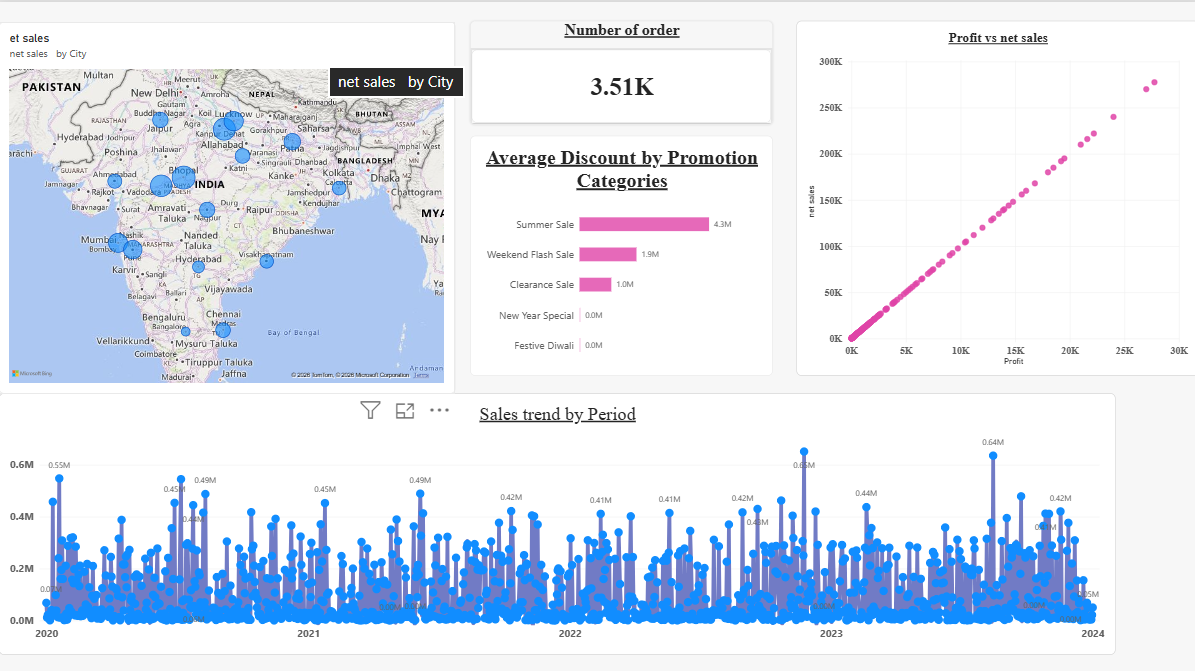

The page's visual inventory and layout, read from the dashboard file:
{"tool":"powerbi","page":{"name":"Overview","canvas":[1920,1080],"ordinal":0},"visuals":[{"type":"lineChart","title":"Sales trend by Period","fields":{"Category":["Fact Table.Date (dd/mm/yyyy).Variation.Date Hierarchy.Year"],"Y":["Sum(Fact Table.net sales  )"]},"box":[0,626.1,1786.1,418],"z":0},{"type":"scatterChart","title":"Profit vs net sales  ","fields":{"X":["Fact Table.Profit"],"Y":["Fact Table.net sales  "]},"box":[1275.8,30.8,644.2,568.2],"z":1000},{"type":"clusteredBarChart","title":"Average Discount by Promotion Categories","fields":{"Category":["Dim Promotion.Promotion Name"],"Y":["Sum(Fact Table.discount)"]},"box":[754,214,484,384],"z":2000},{"type":"map","title":"et sales  ","fields":{"Category":["Dim Customers.City"],"Size":["Sum(Fact Table.net sales  )"]},"box":[0,32,730,594],"z":3000},{"type":"cardVisual","title":"Number of order","fields":{"Data":["Count(Fact Table.Order ID)"]},"box":[754,30,484,166],"z":4000}]}

Visuals, with their boxes in screenshot pixels (x1, y1, x2, y2), scaled from the page's 1920x1080 canvas onto the 1195x671 screenshot:
"Sales trend by Period" lineChart: crop(0, 389, 1112, 649)
"Profit vs net sales  " scatterChart: crop(794, 19, 1194, 372)
"Average Discount by Promotion Categories" clusteredBarChart: crop(469, 133, 771, 372)
"et sales  " map: crop(0, 20, 454, 389)
"Number of order" cardVisual: crop(469, 19, 771, 122)
